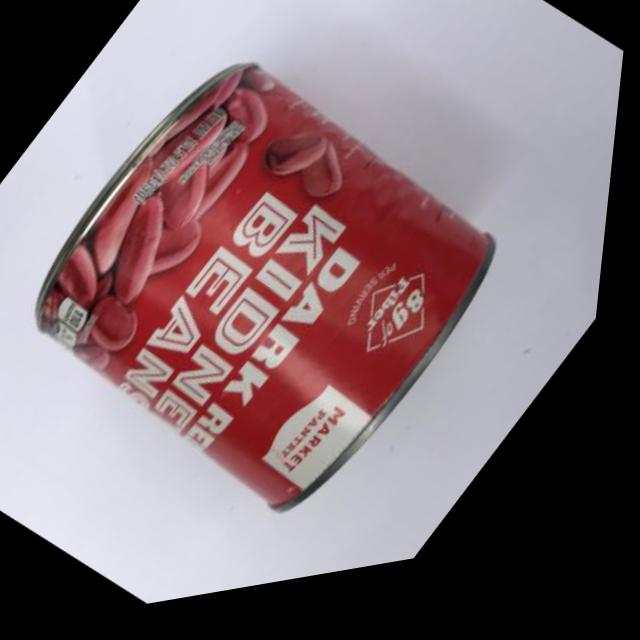metal: (0, 0, 615, 640)
